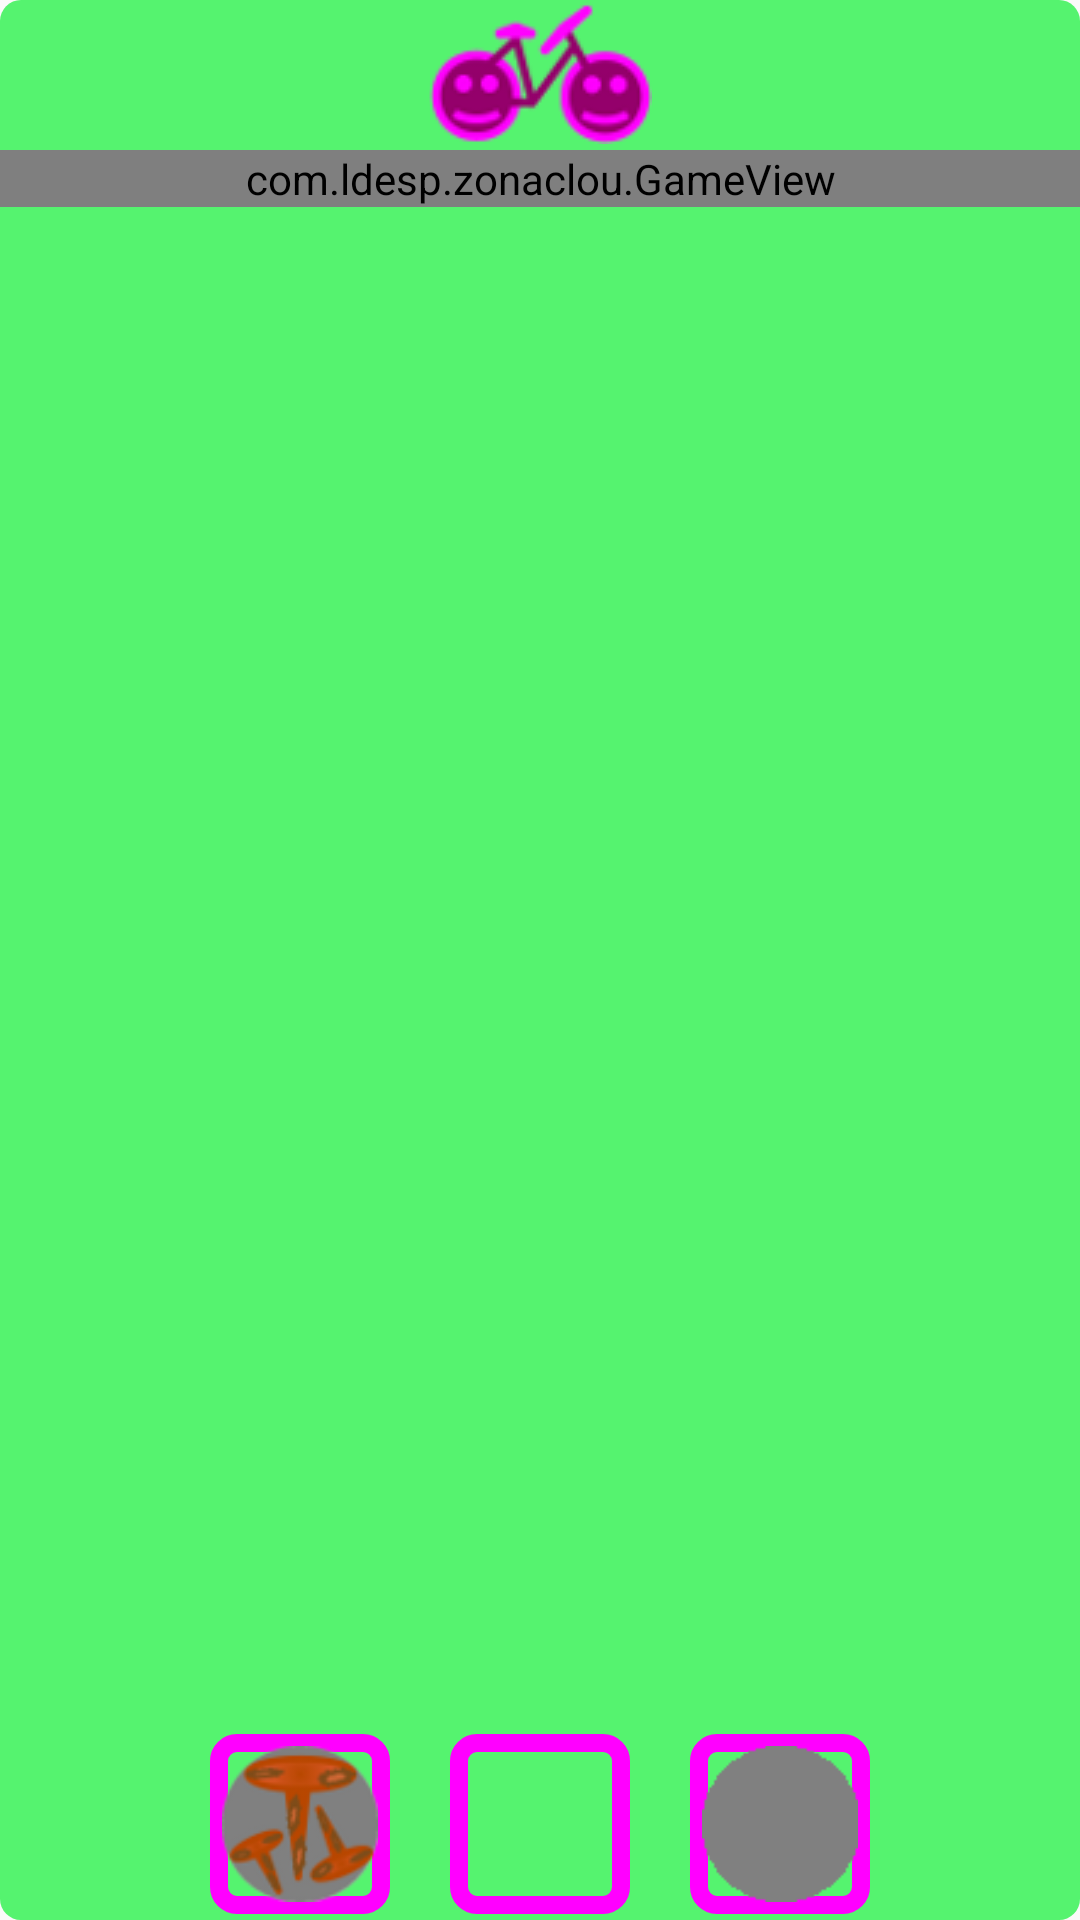

Where icons sit on this 1080px x 1920px app screen, as (x1, y1, x2, y2):
cyclegagne: (430, 5, 652, 144)
